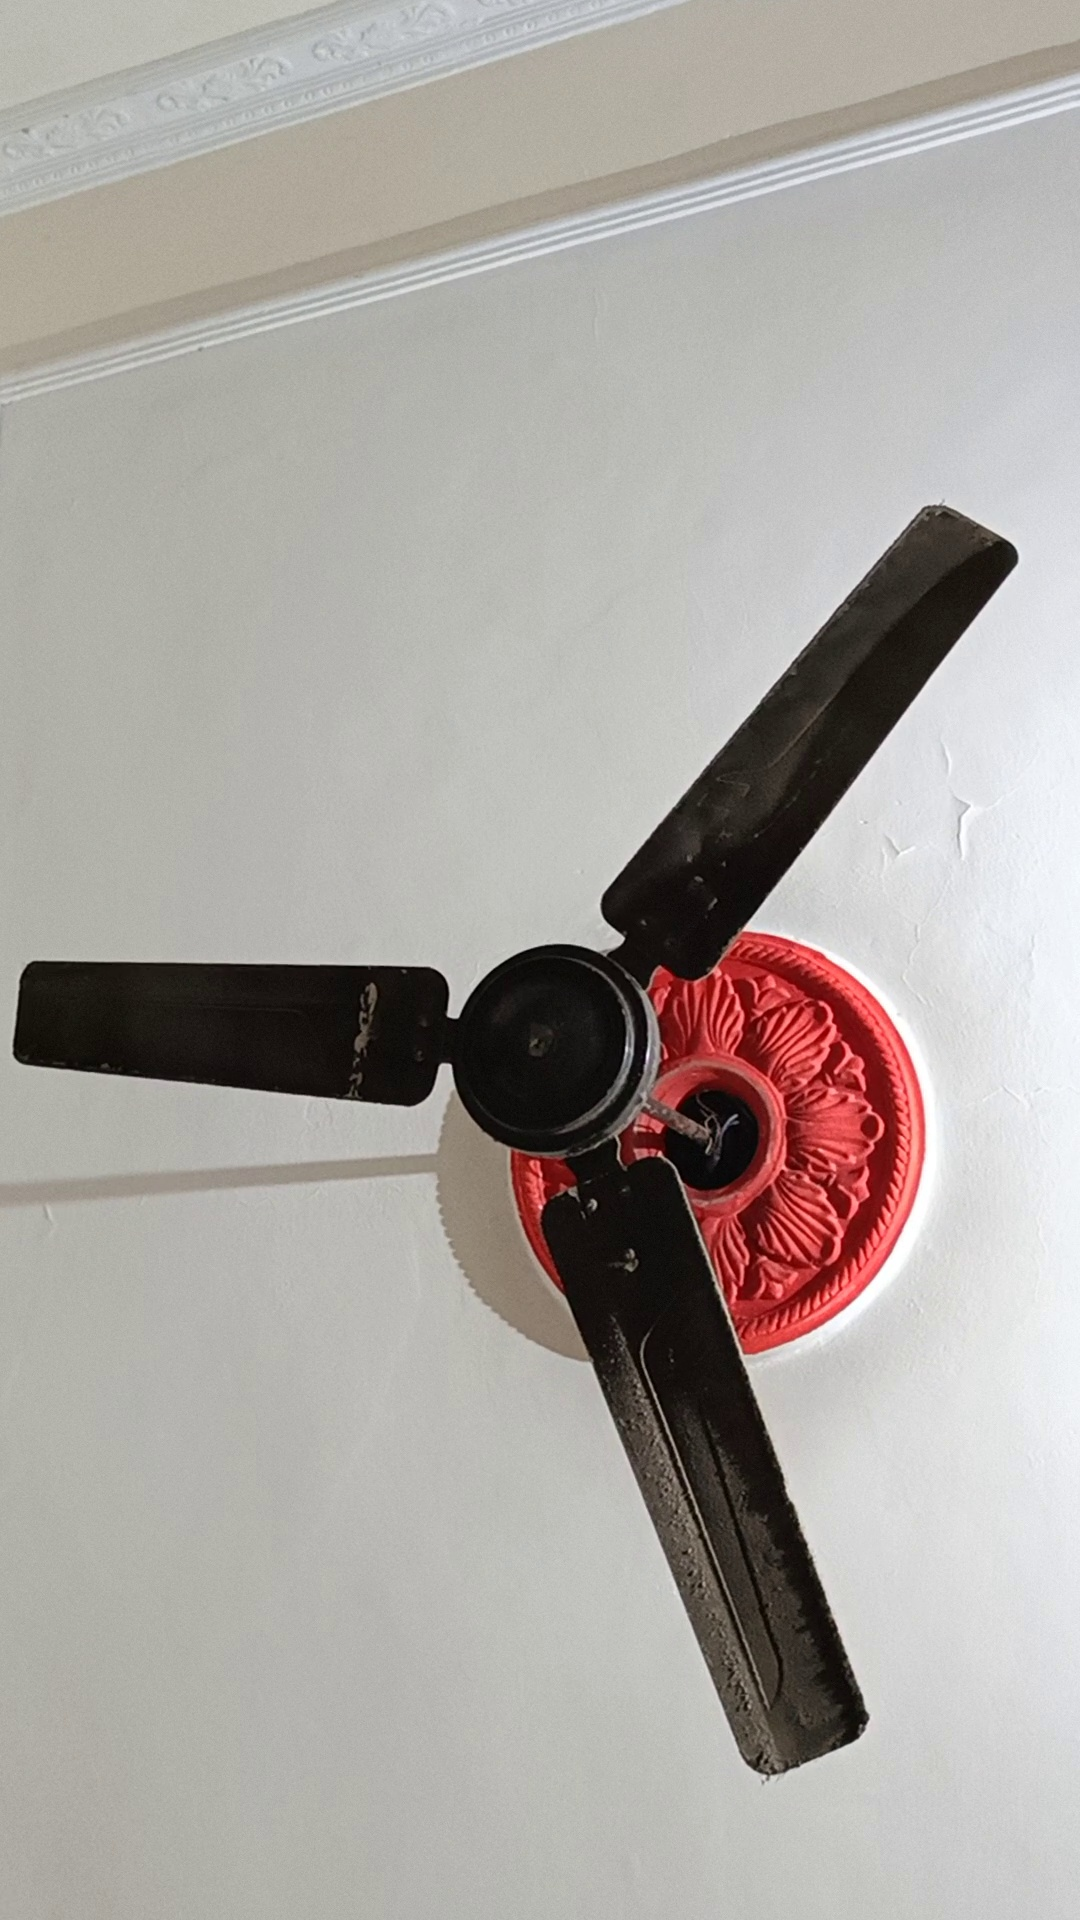fan: (11, 504, 1080, 1785)
